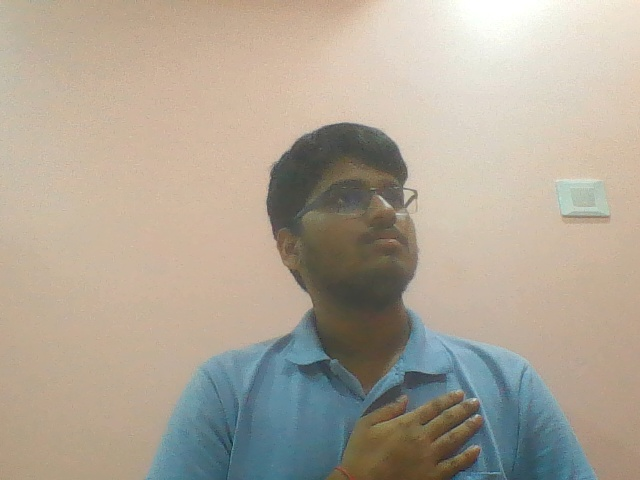please: (340, 385, 520, 480)
